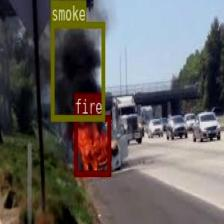fire: (74, 114, 110, 175)
smoke: (51, 21, 104, 119)
